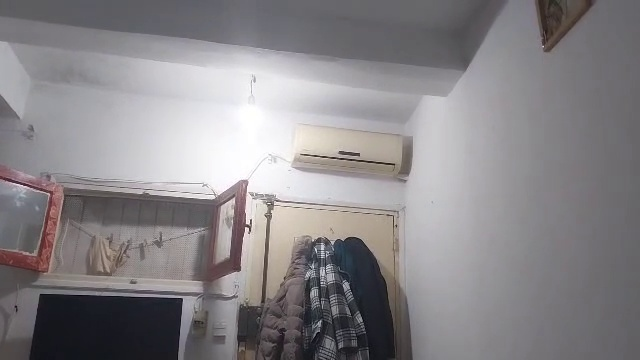air_conditioner: (285, 112, 416, 185)
